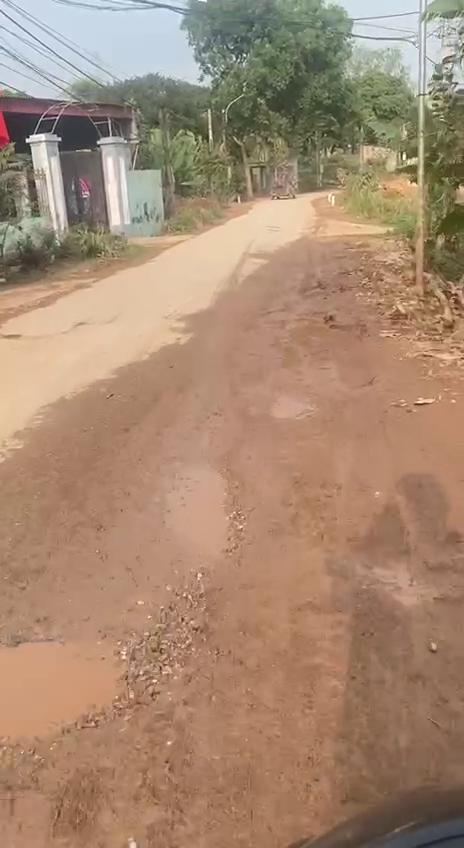pothole: (0, 630, 165, 750)
